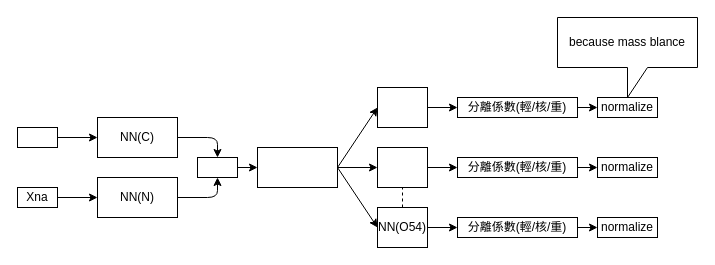
Image size: 715x265. Some labels were removed from this diagram. Each missing label, with the centre of its shape:
"Case" goes at pixel 37 137.
"cat" goes at pixel 217 167.
"NN(F)" goes at pixel 297 167.
"NN(O1)" goes at pixel 402 107.
"NN(O2)" goes at pixel 402 167.
